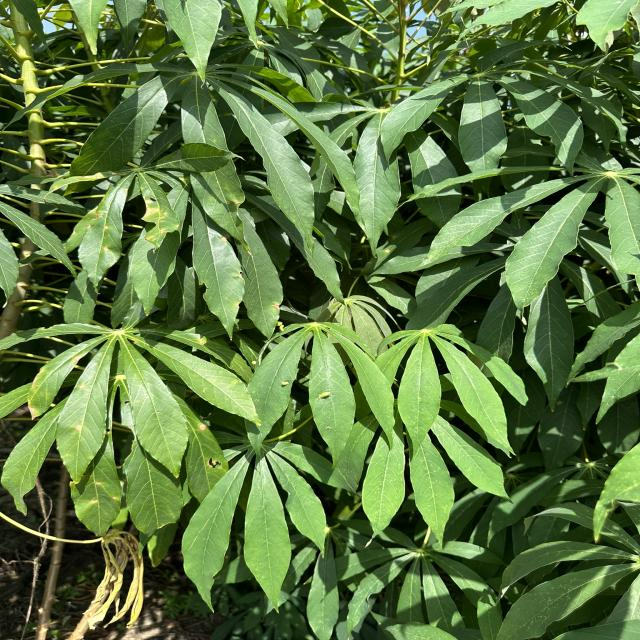Mosca: (315, 388, 348, 408), (268, 370, 295, 394), (242, 345, 266, 369)
